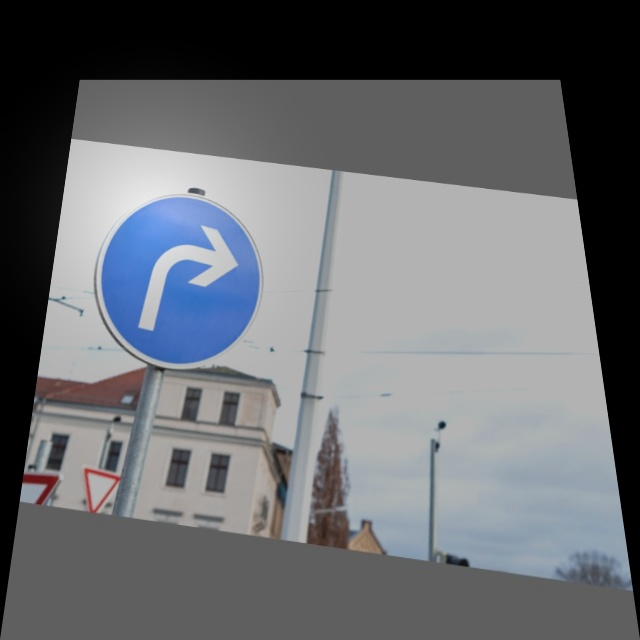Compulsory_Turn_Right_Ahead: (72, 184, 272, 380)
